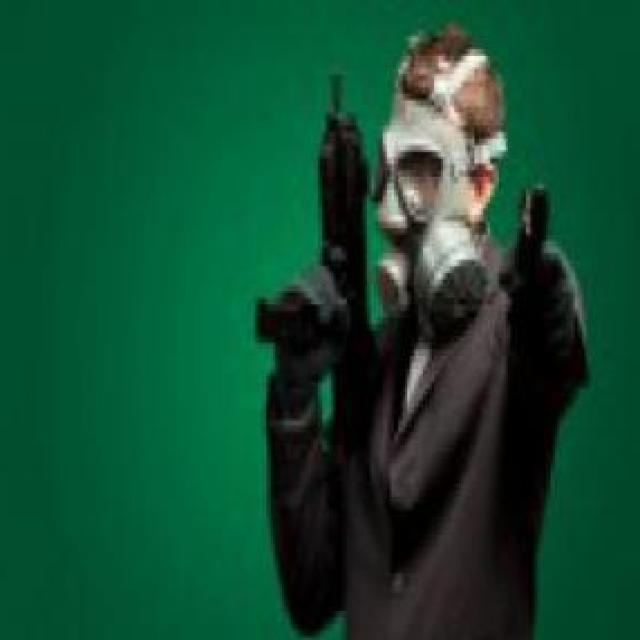pistol: (499, 163, 551, 349)
